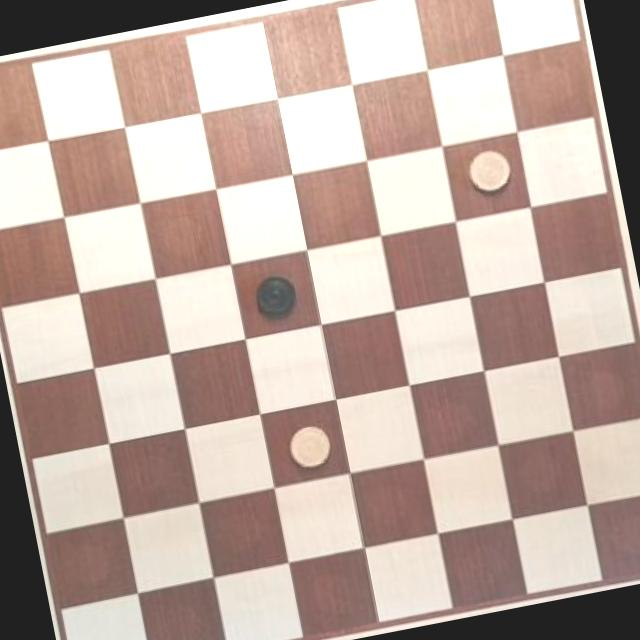BOARD: (0, 0, 640, 640)
black: (242, 262, 302, 326)
white: (454, 142, 520, 204), (276, 414, 340, 473)
